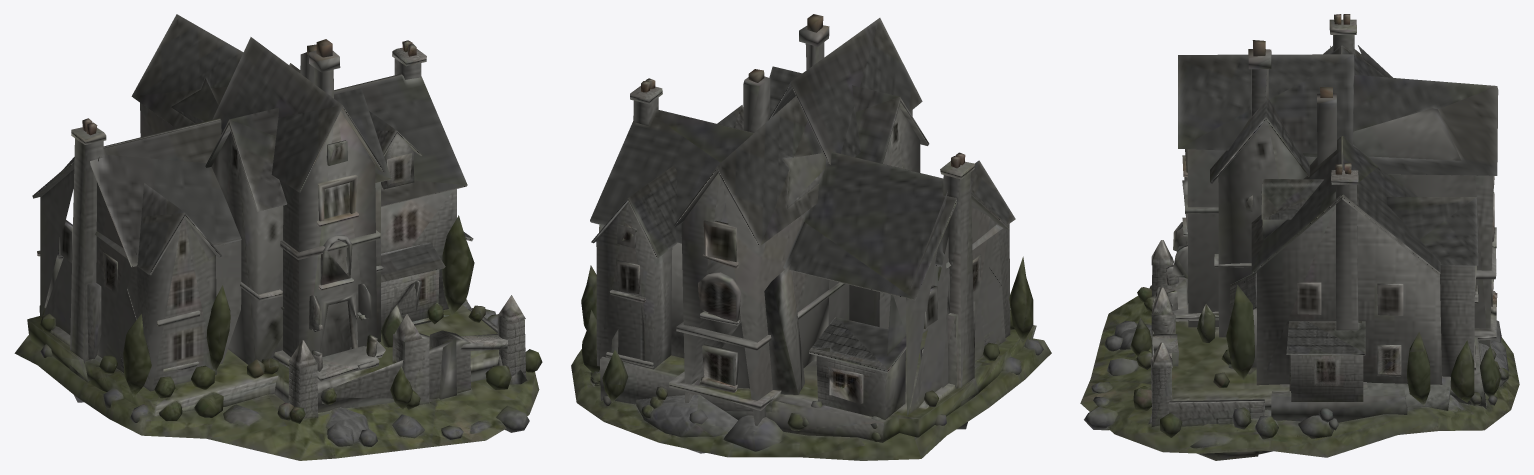
Rendered from estate_house.glb.
3 renders of one model, left to right at view 1: azimuth 30°, elevation 25°; view 2: azimuth 150°, elevation 25°; view 3: azimuth 270°, elevation 25°, orthographic. The views are drawn at different scales.
Parts seen in each view (by area): view 1: EstateHouseMesh; view 2: EstateHouseMesh; view 3: EstateHouseMesh.
Part boxes in pixels (box(x1,y1,x2,y2)): EstateHouseMesh: box(14, 14, 542, 460); EstateHouseMesh: box(571, 14, 1051, 460); EstateHouseMesh: box(1080, 14, 1519, 460).
Bounding box in the file's own units: 2 × 1.75 × 2.
Materials: 1 (1 with a texture image).
